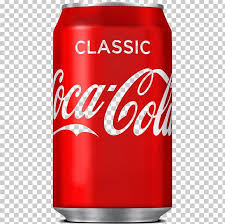coke: (52, 5, 173, 222)
